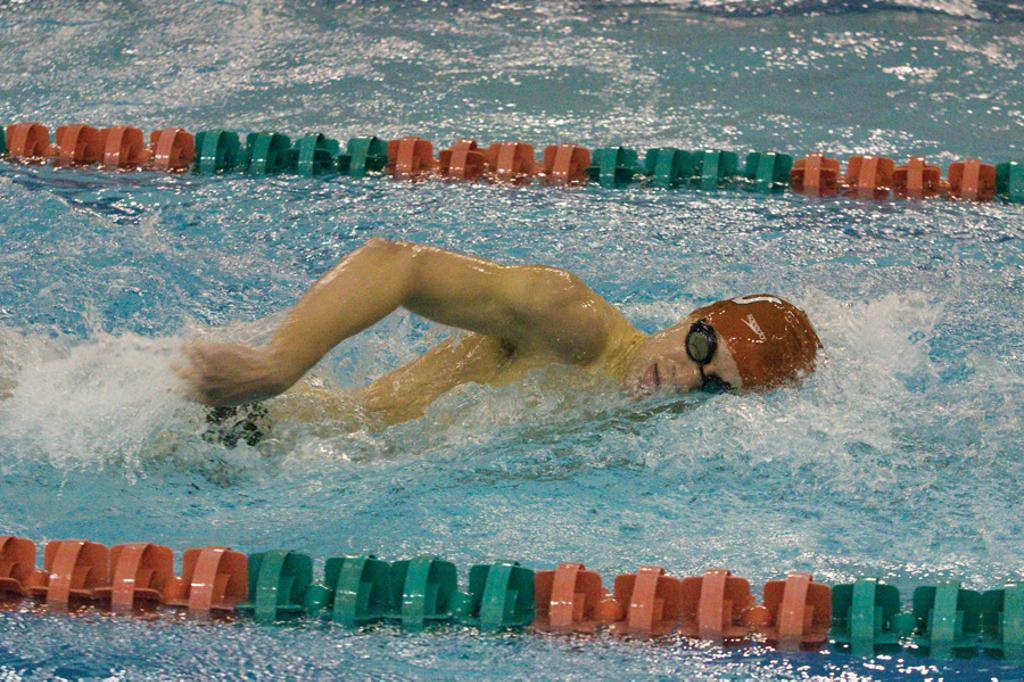face: (628, 318, 752, 418)
